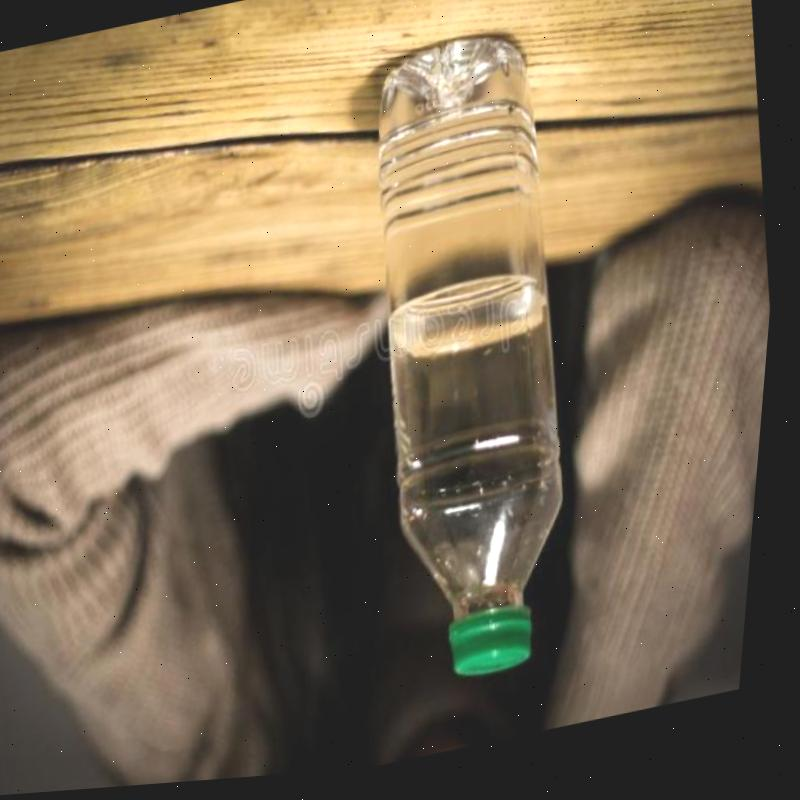botella: (324, 24, 626, 704)
